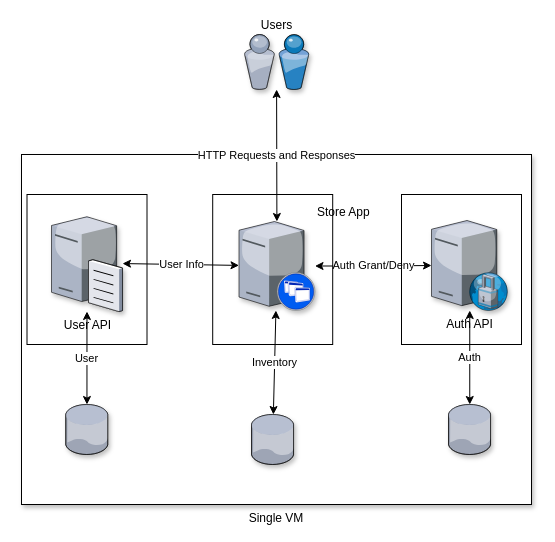
The diagram is 555 pixels wide and 542 high, and some of its shapes have lost their labels. The shapes that lost their labels are listed below. From the top down, each one's centre as x and y in pixels, then its label:
the point at 87,430: User Database
the point at 273,440: Inventory Database
the point at 470,430: Credential Database
